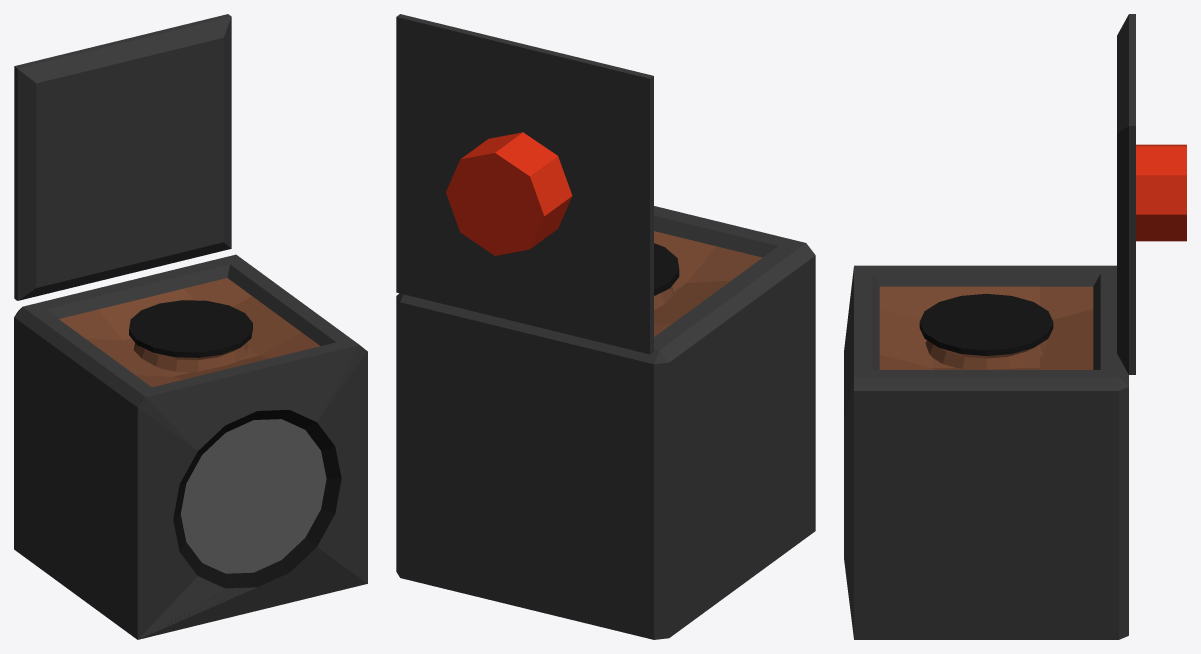
File: fonosimple1.glb
The picture shows the model from 3 angles, left to right: view 1: azimuth 30°, elevation 25°; view 2: azimuth 150°, elevation 25°; view 3: azimuth 270°, elevation 25°; orthographic projection. The views are drawn at different scales.
Visible parts, largest first — view 1: Cube, Cube.001; view 2: Cube, Cube.001; view 3: Cube, Cube.001.
Part boxes in pixels (<box>): Cube: <box>14,254,367,639</box>; Cube.001: <box>14,14,231,300</box>; Cube: <box>396,206,815,639</box>; Cube.001: <box>396,14,653,354</box>; Cube: <box>844,265,1128,639</box>; Cube.001: <box>1117,14,1186,374</box>.
Bounding box in the file's own units: 0.5537 × 1.09 × 0.6664.
1 material, 1 textured.
